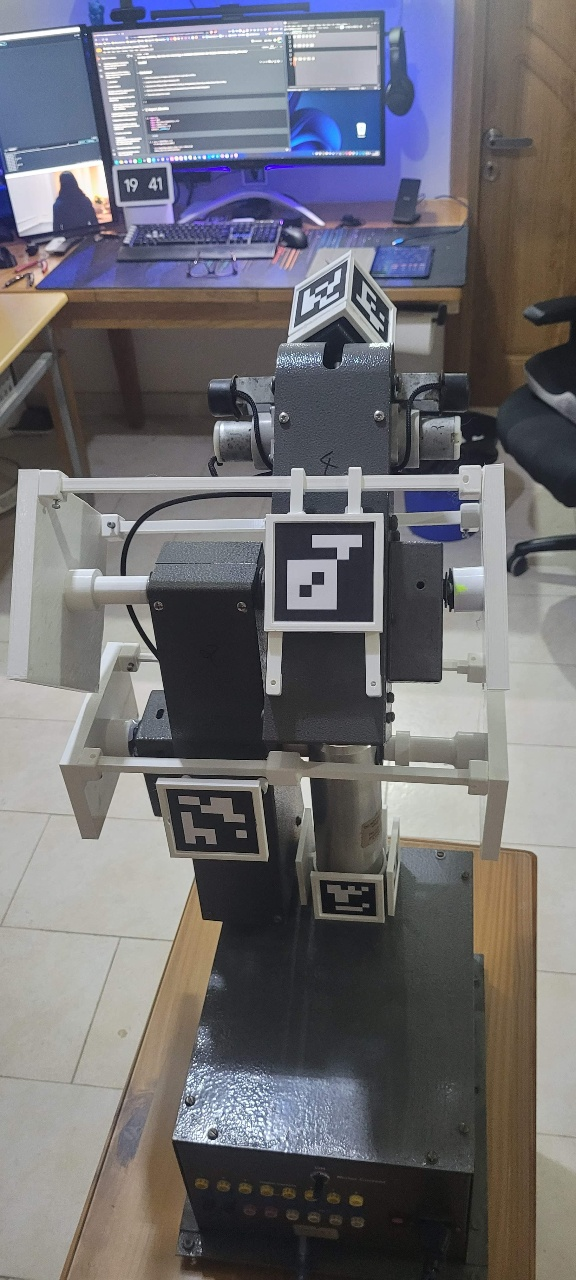Robot: (67, 187, 574, 1028)
